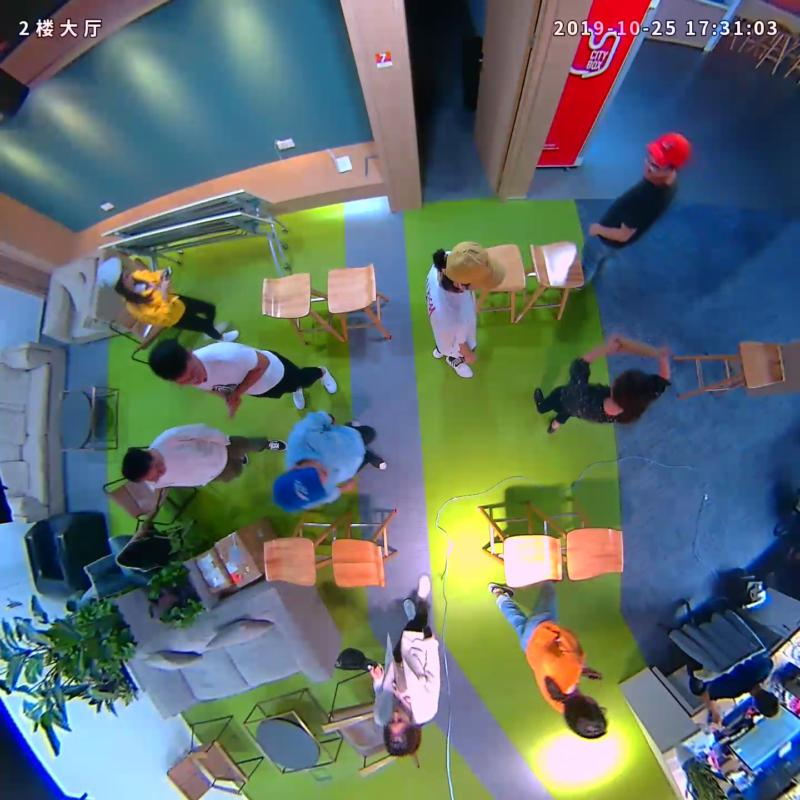head: (443, 240, 507, 296), (273, 462, 330, 512), (149, 338, 203, 386), (642, 131, 692, 181), (563, 694, 608, 739), (383, 704, 421, 757), (608, 369, 651, 413), (121, 447, 164, 484), (95, 256, 134, 291)
